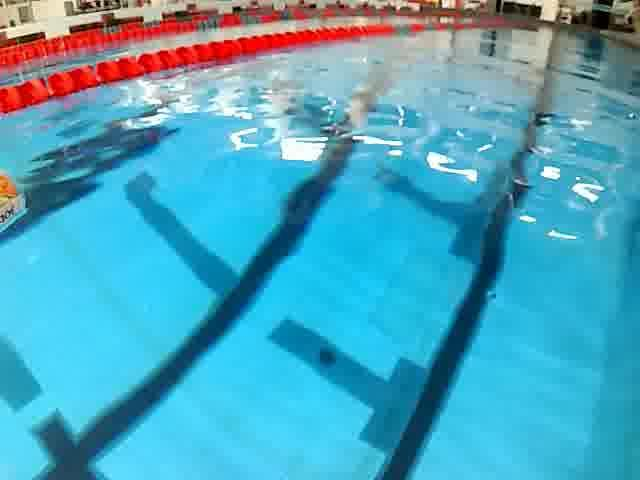Bottle: (0, 160, 35, 235)
